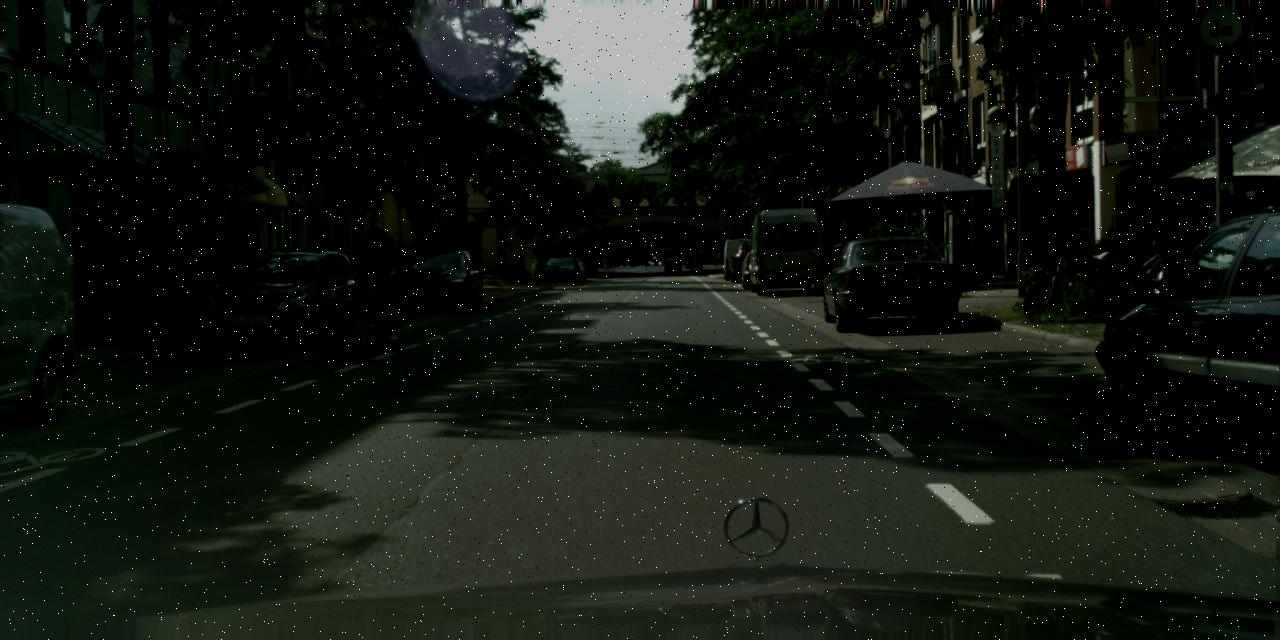ped: (358, 220, 404, 332), (1200, 204, 1242, 307), (392, 242, 410, 286), (694, 250, 703, 273), (688, 253, 694, 269)
